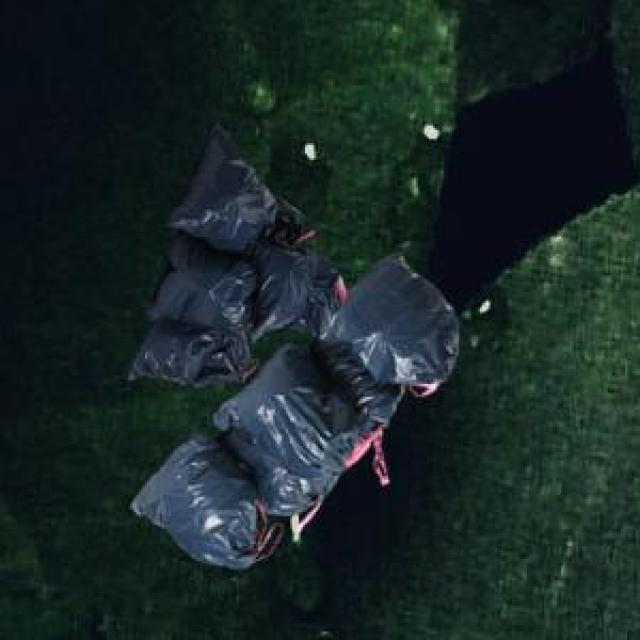waste: (130, 134, 459, 569)
